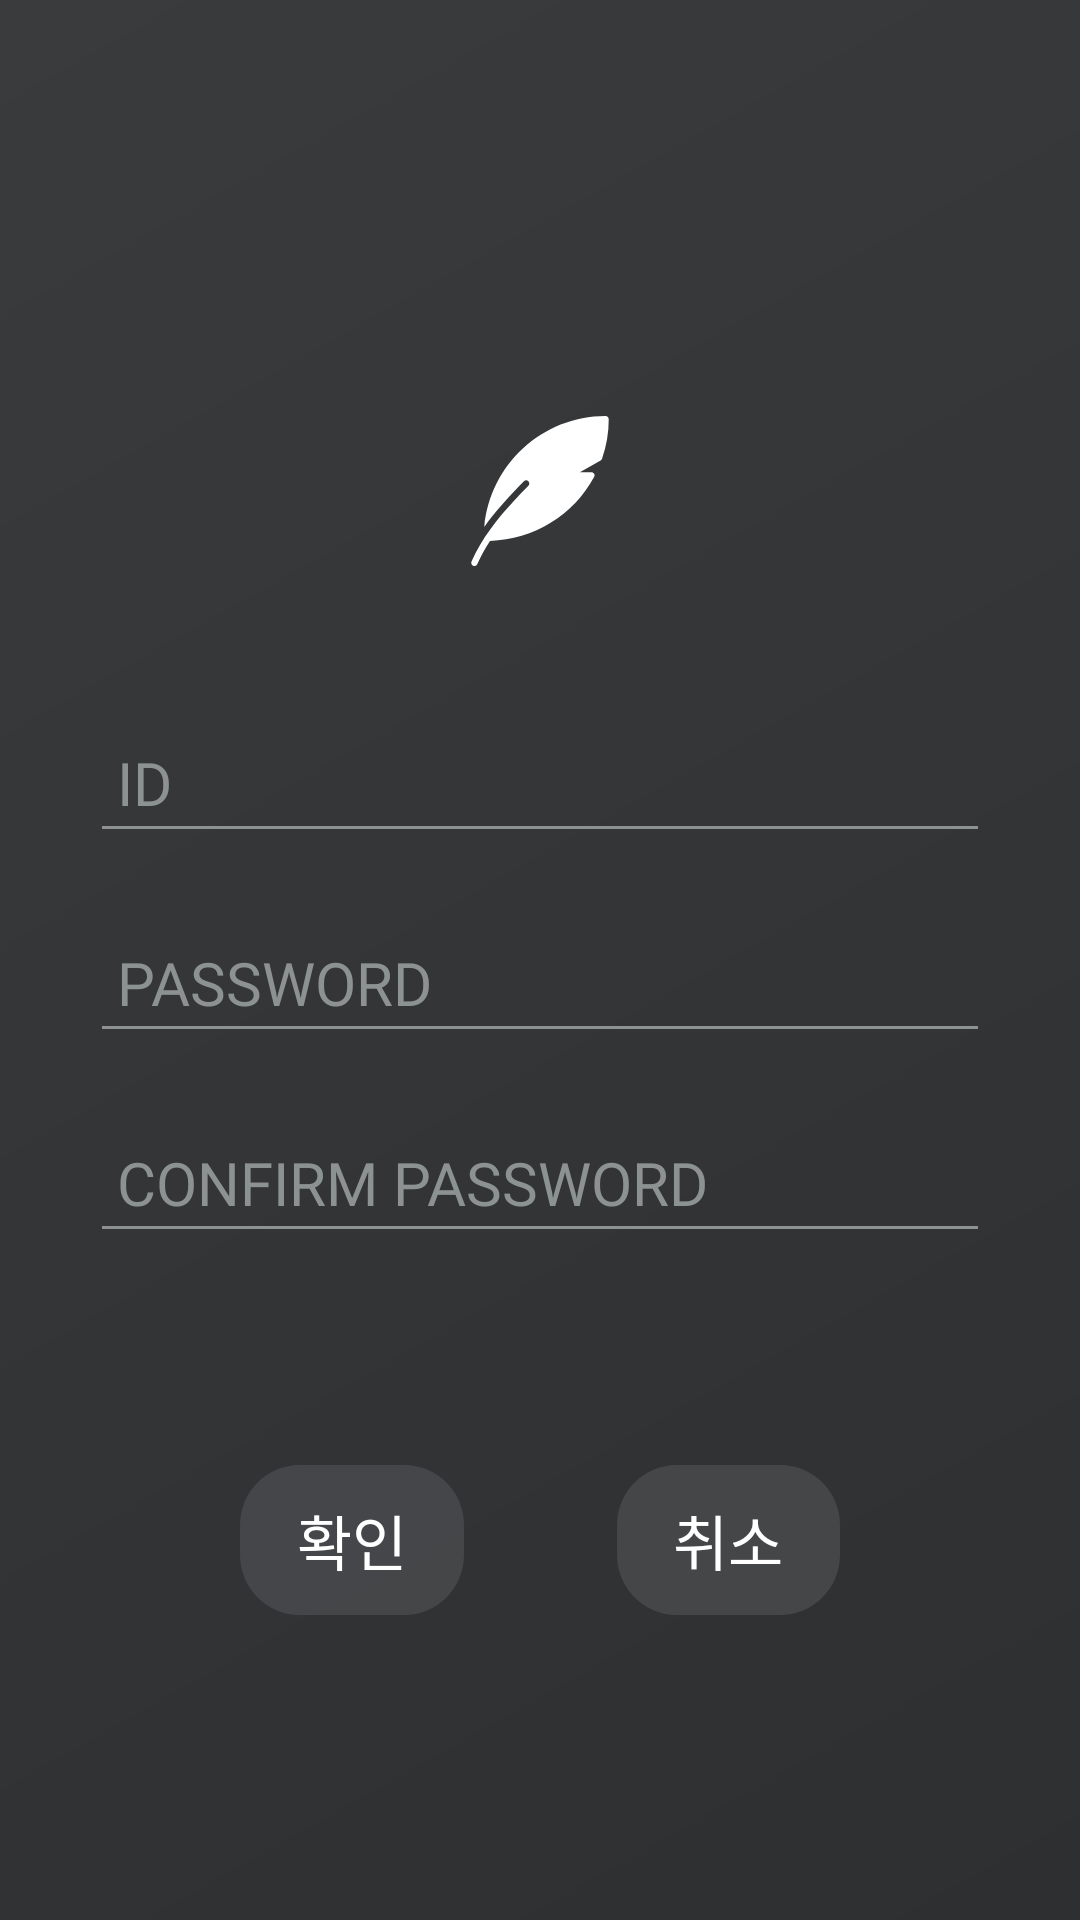

Icons on this 1080w x 1920h Android screen, each with its box as (x1, y1, x2, y2):
quill: (471, 416, 609, 566)
